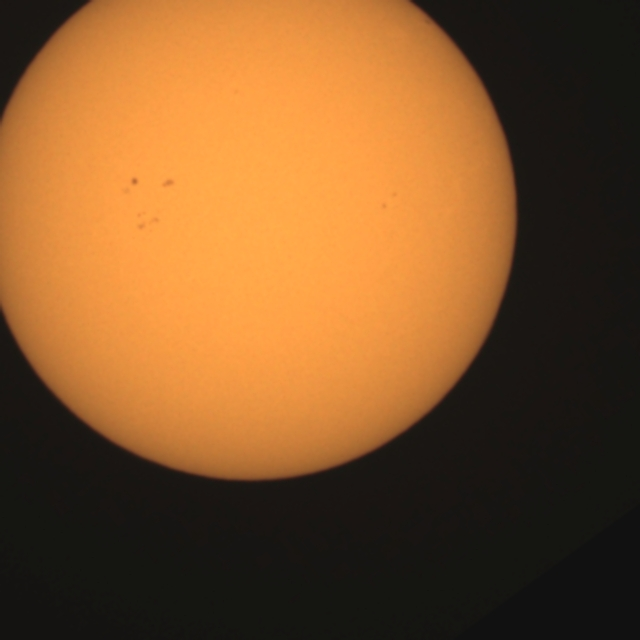sunspot: (120, 173, 184, 203), (133, 209, 163, 234), (121, 175, 141, 197), (380, 189, 399, 212), (159, 176, 178, 191)
